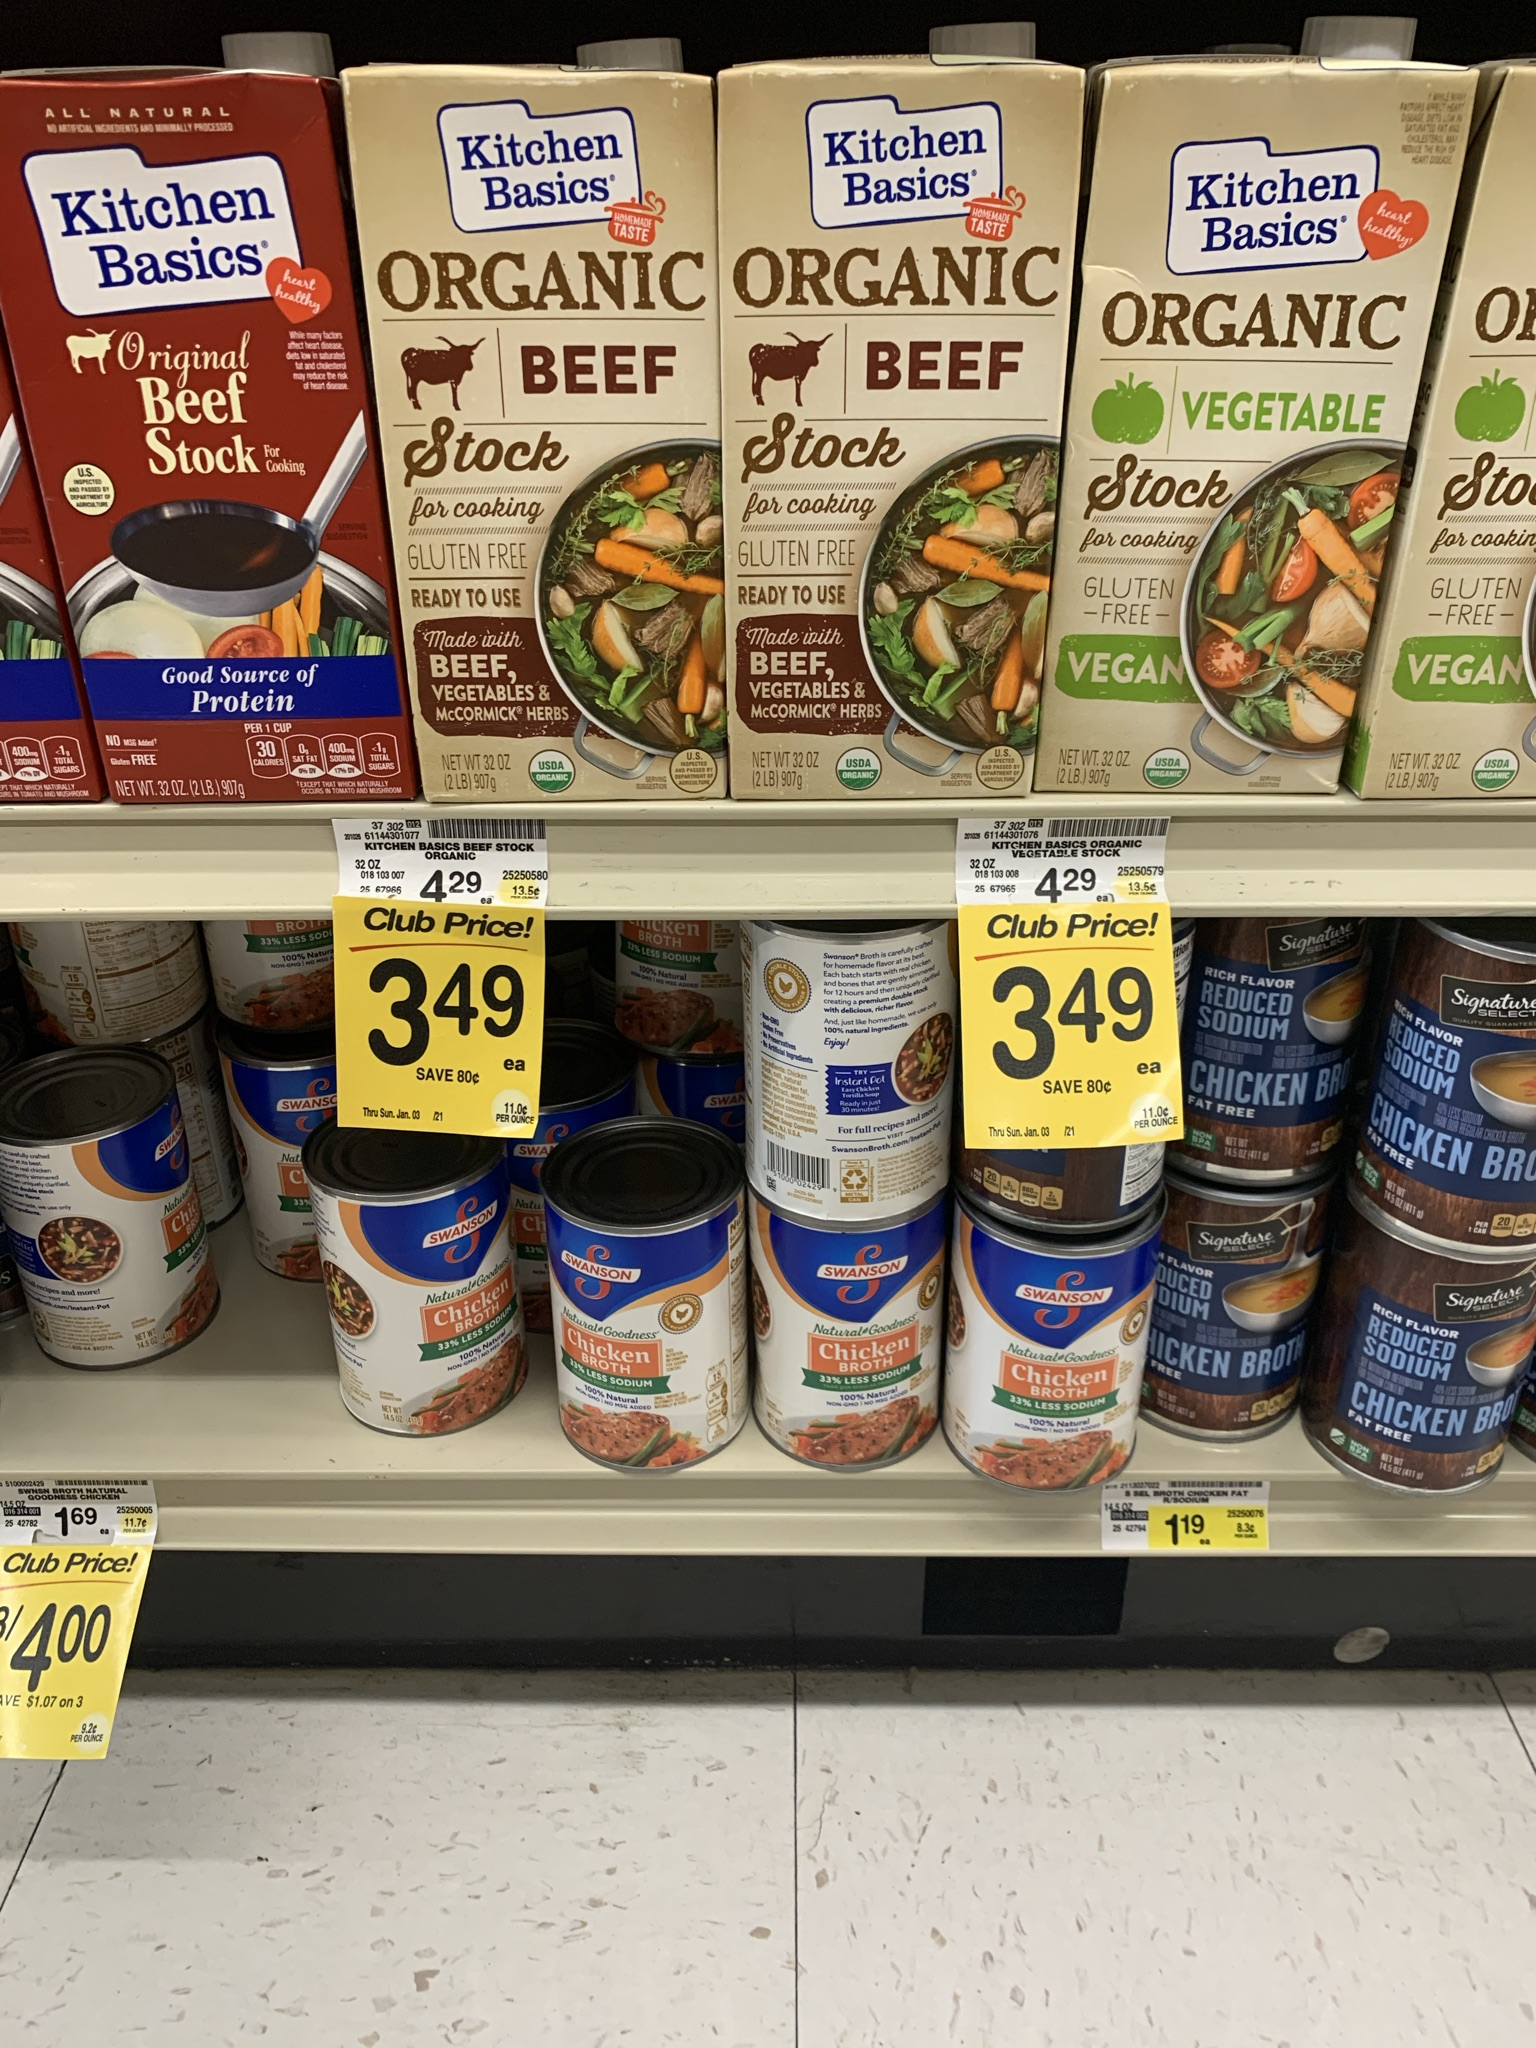box: (2, 76, 405, 795), (369, 73, 718, 797), (1075, 81, 1430, 785), (721, 69, 1066, 793)
can: (744, 927, 958, 1230), (1342, 1243, 1531, 1493), (552, 1195, 731, 1458), (5, 1135, 215, 1351), (323, 1185, 511, 1421), (958, 1229, 1141, 1472), (758, 1221, 937, 1461), (1158, 1185, 1318, 1440), (1388, 947, 1536, 1219)
